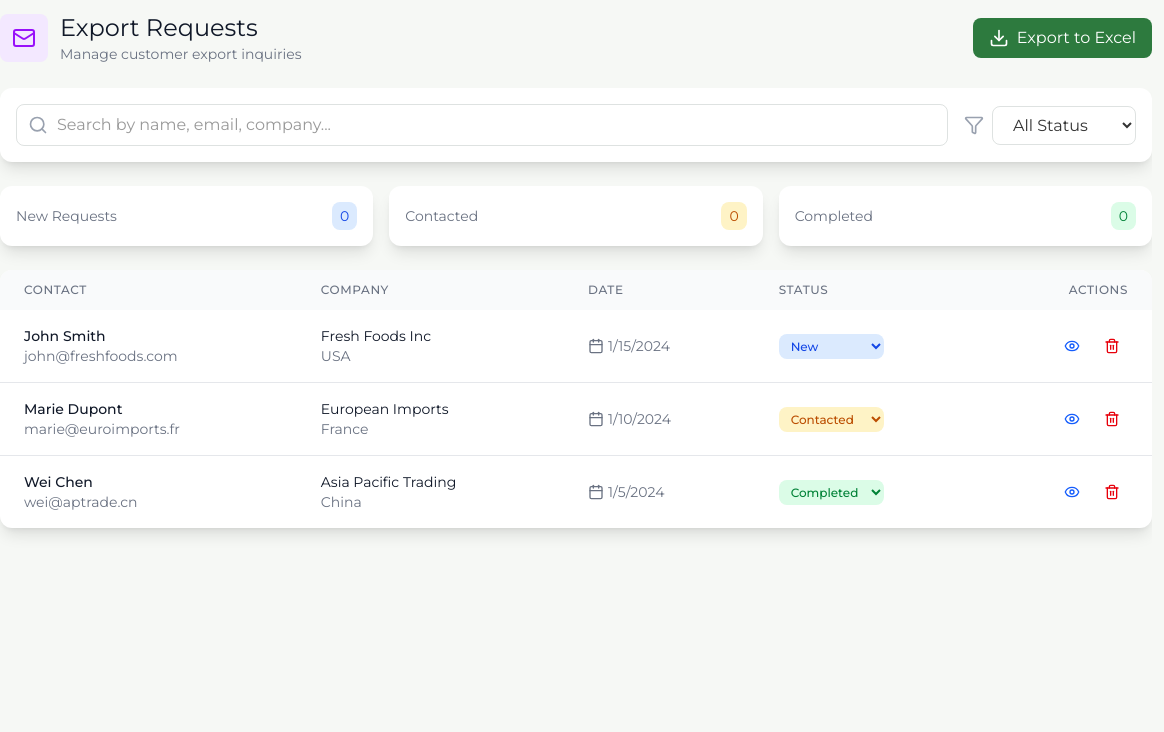
Test: AdminExportRequests › filters requests by status (server-side)
The image size is (1164, 732).
Check: the text "John Smith" is shown, box [24,327,106,345]
Get all comboboxes - first one is the status filter
Select "Contacted" in the 1st dropdown. click: x=1064, y=125
box: [992,106,1136,144]
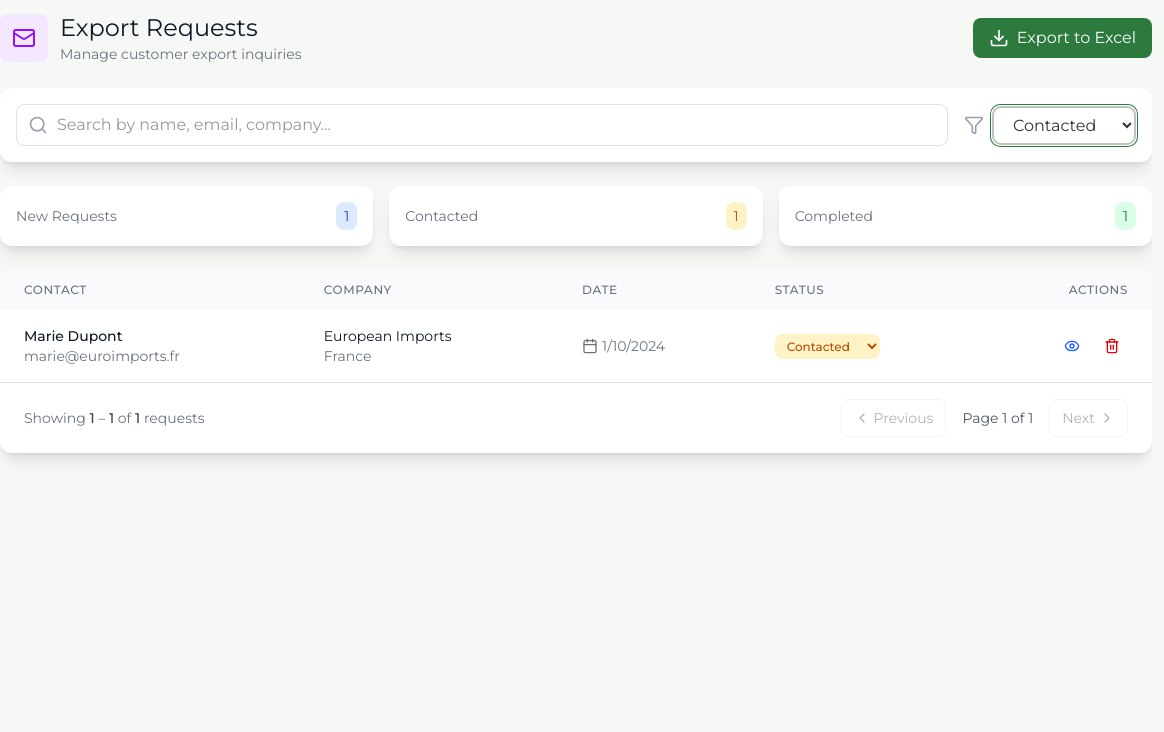
Check: the text "Marie Dupont" is shown, box [24,327,122,345]
Check: the text "John Smith" is gone
Check: the text "Wei Chen" is gone
